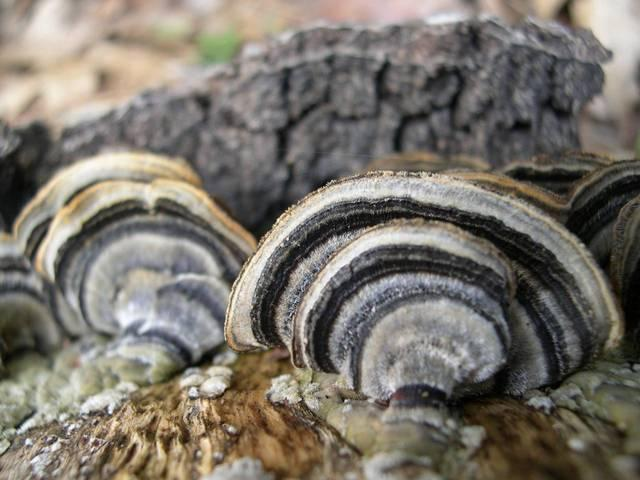poisonous_mushroom: (222, 162, 625, 414), (8, 148, 258, 386)
